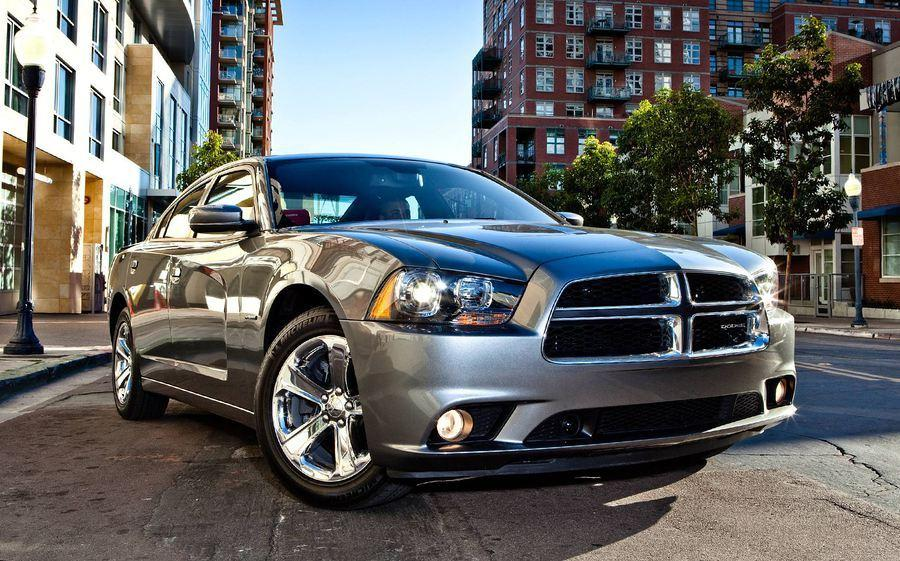car: (99, 145, 806, 509)
